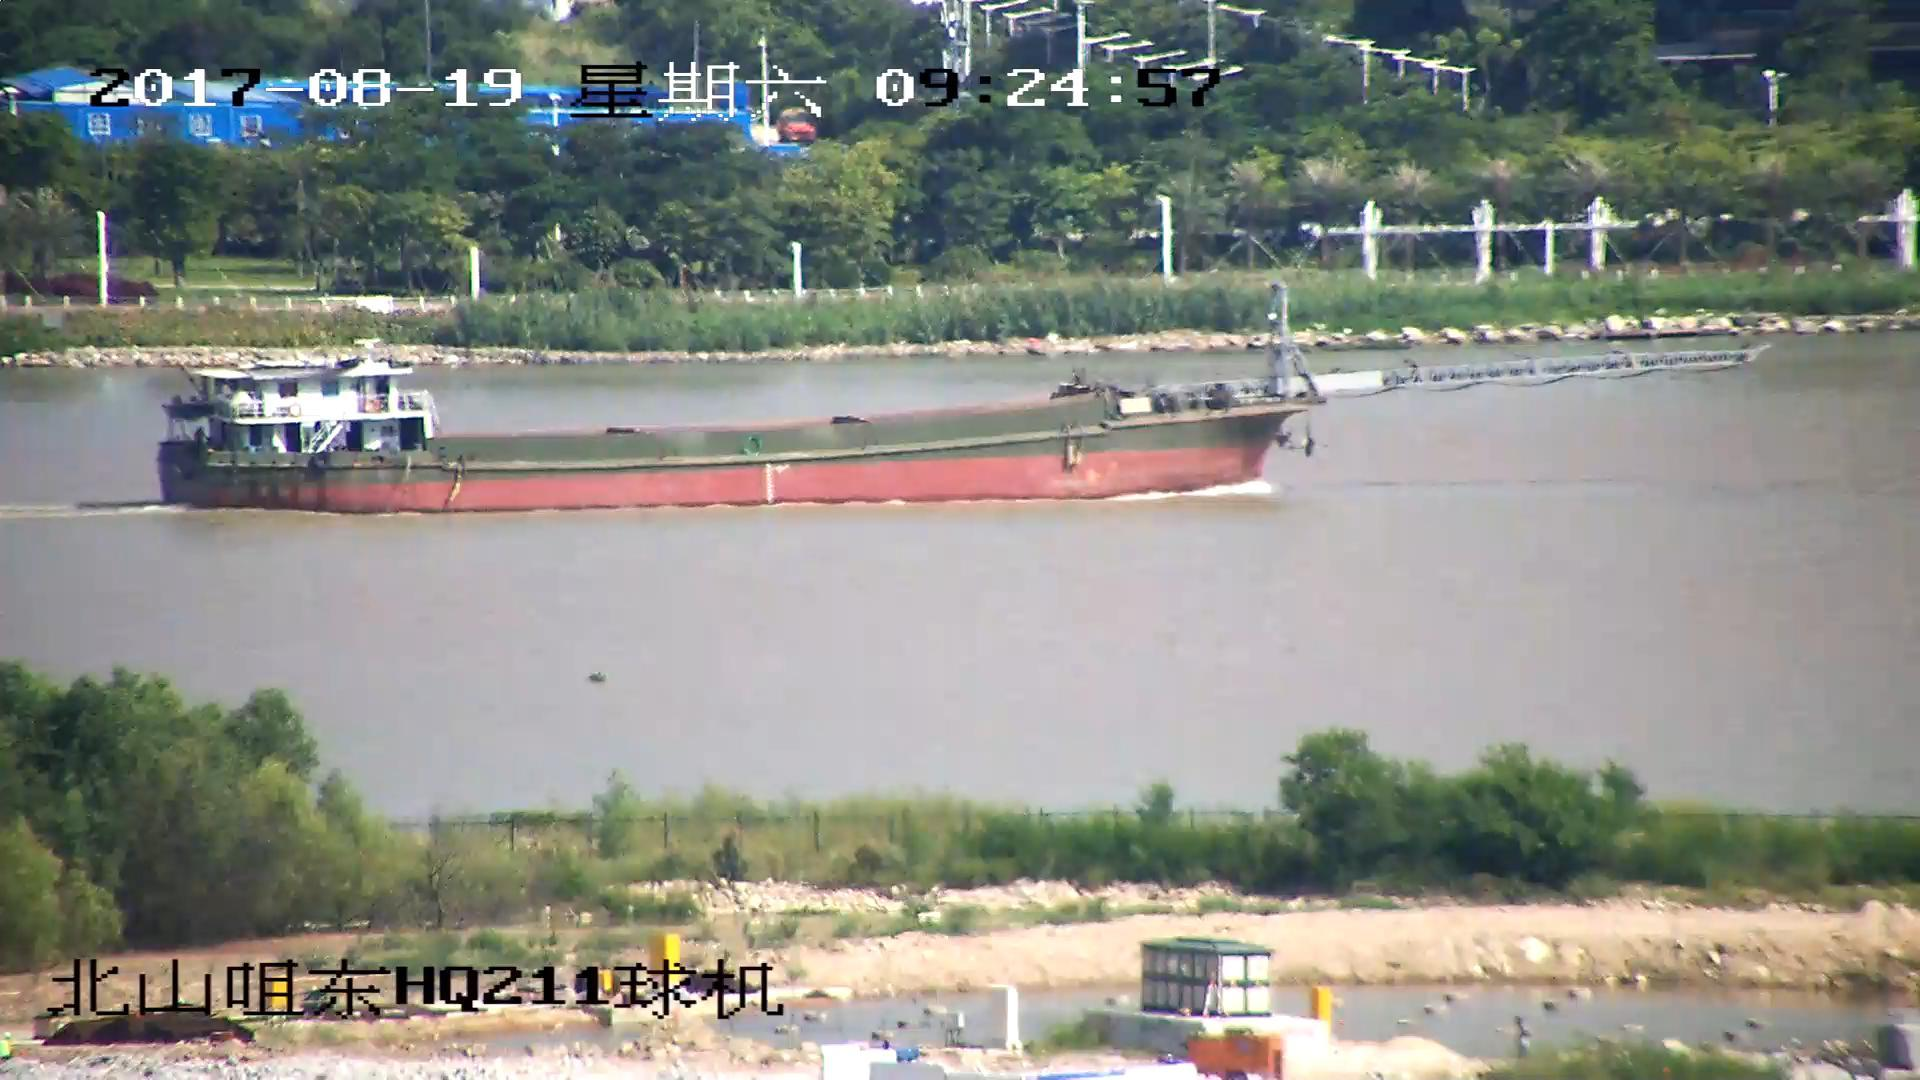Ship: (160, 272, 1755, 520)
